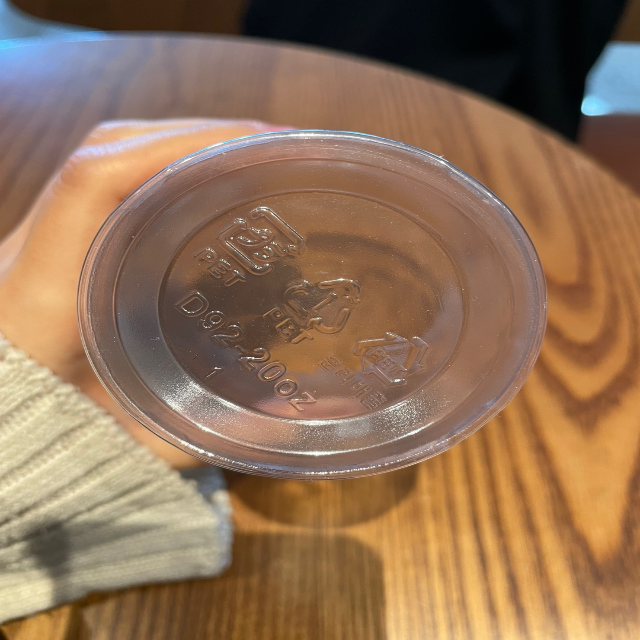pet: (192, 206, 307, 287), (322, 333, 432, 413), (266, 274, 362, 346)
